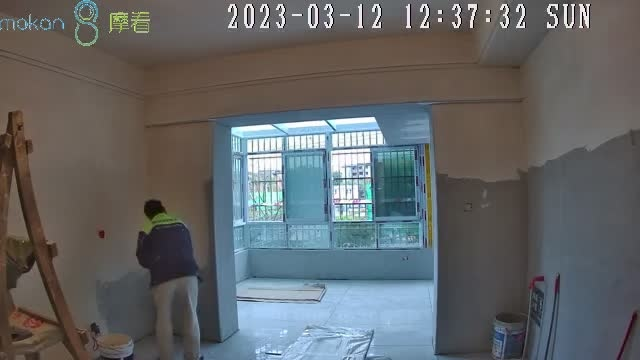people: (138, 199, 205, 360)
window: (232, 133, 428, 249)
